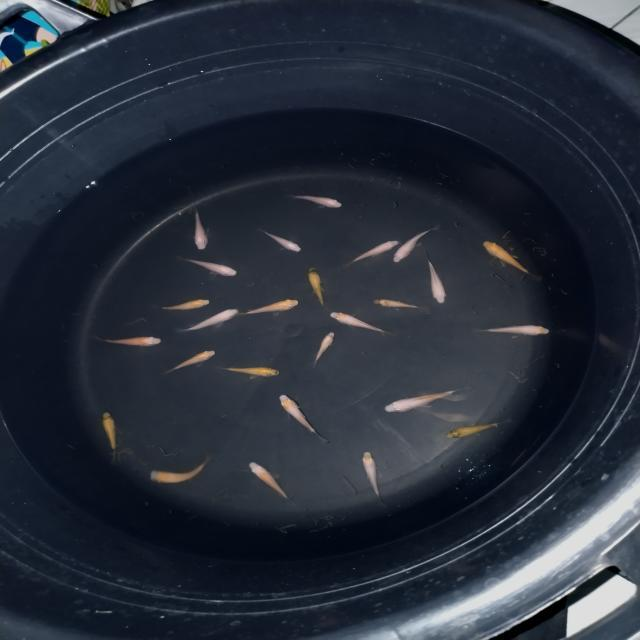nila: (271, 392, 326, 440), (375, 387, 469, 415), (481, 240, 542, 279), (245, 462, 299, 506), (146, 453, 218, 485), (390, 226, 438, 267), (174, 308, 241, 337), (328, 309, 396, 336), (341, 238, 402, 268), (419, 250, 450, 308), (160, 348, 218, 377), (442, 418, 510, 440), (238, 298, 300, 322), (358, 450, 386, 503), (178, 255, 241, 278), (255, 226, 304, 254), (476, 321, 555, 338), (212, 362, 284, 380), (303, 263, 327, 310), (95, 334, 163, 350), (158, 296, 214, 315), (292, 192, 344, 212), (312, 328, 337, 368), (190, 204, 210, 254), (100, 411, 118, 458), (368, 296, 421, 310)
